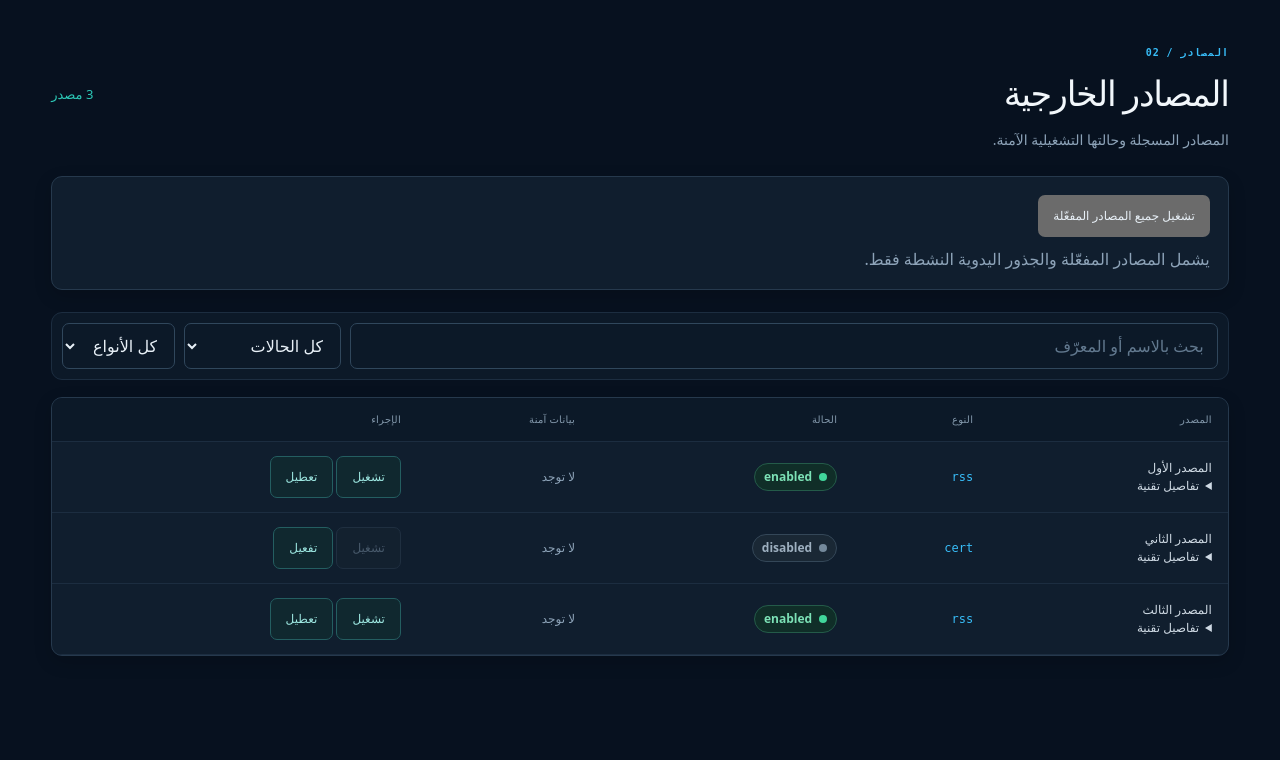
Test case: single external source job › shows failed jobs with sanitized errors
What coordinates should you click on to do the following:
click the button "تشغيل" in the row of "المصدر الأول"
I would click on:
 (369, 477)
Its box is left=336, top=456, right=401, bottom=498.
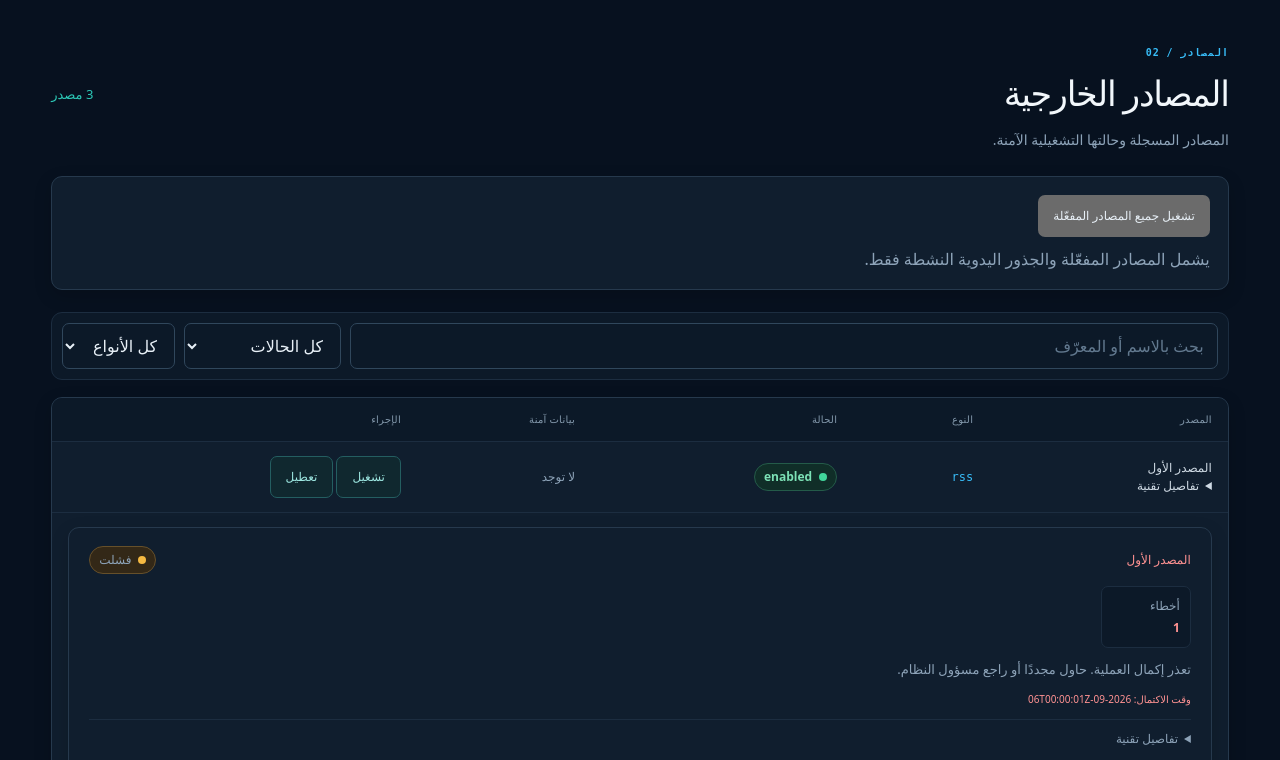
Result: the text "فشلت" is shown at left=89, top=546, right=156, bottom=574
